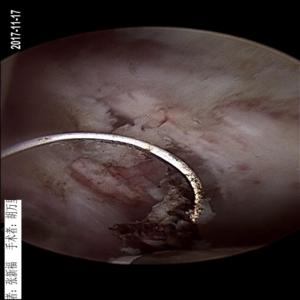film: (66, 119, 241, 216)
